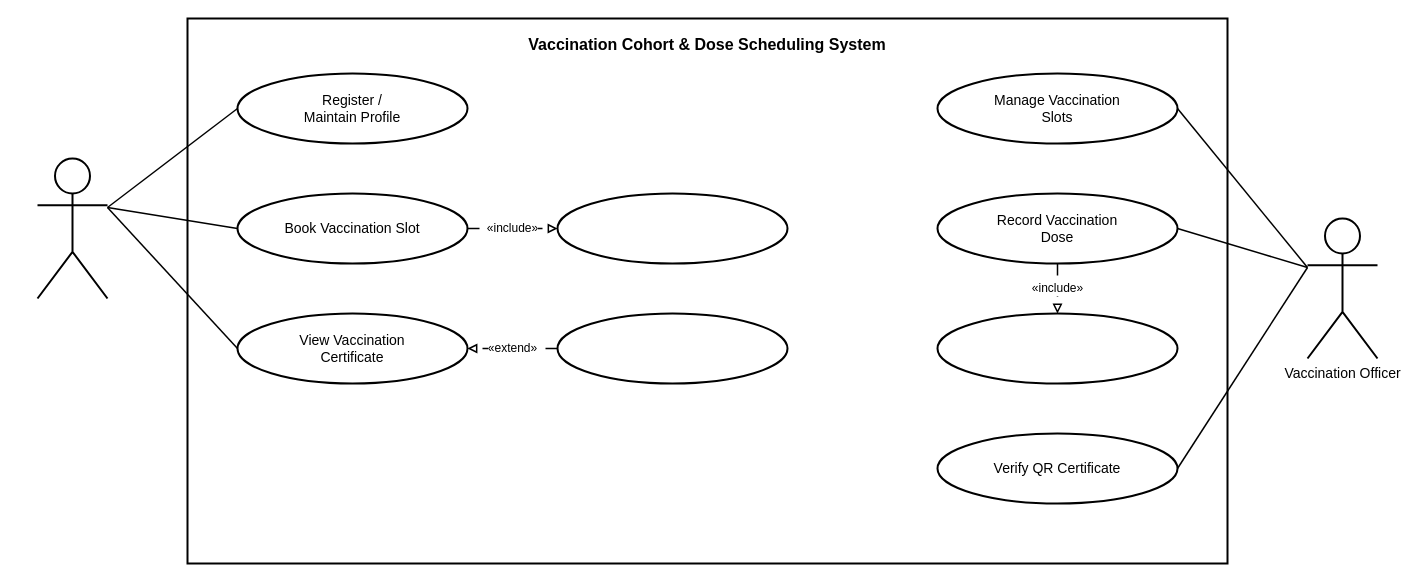
The diagram is 1418 pixels wide and 581 high, and some of its shapes have lost their labels. Here are the shapes that lost their labels. From the top down, the box of each, then its label:
(36, 157, 108, 299): Citizen Registrant
(556, 192, 788, 264): Check Dose Eligibility
(556, 312, 788, 384): Download QR Certificate
(936, 312, 1178, 384): Generate Vaccination Certificate
